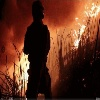fire: (71, 2, 100, 50), (9, 42, 30, 90)
